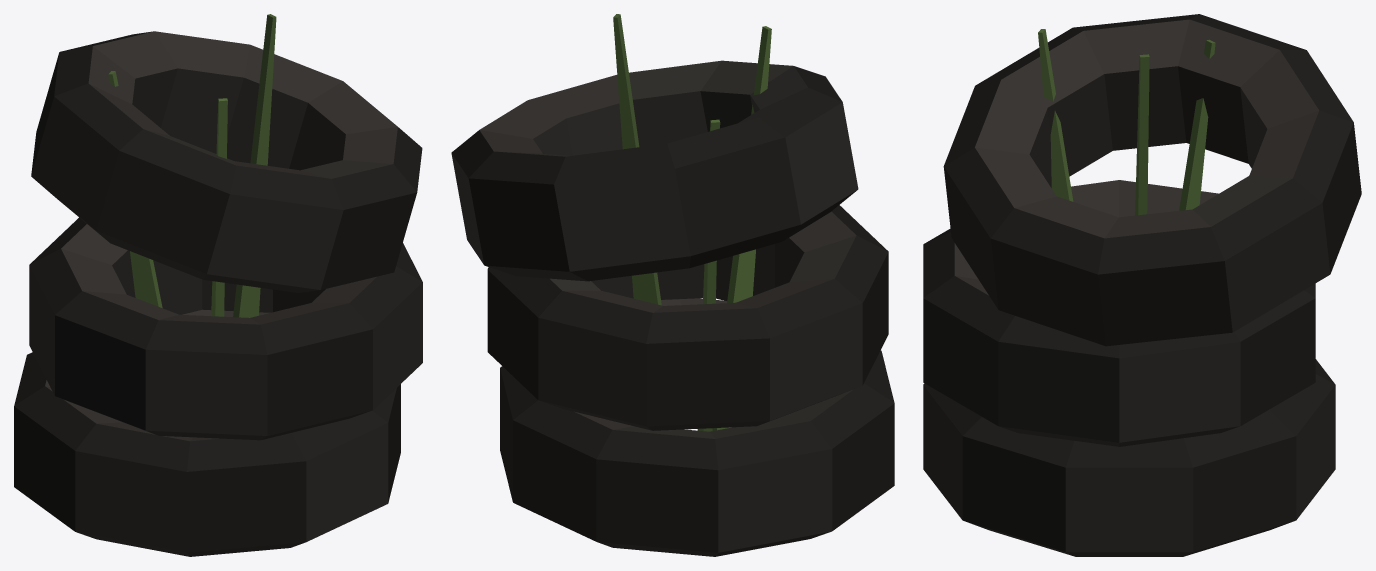
The model's file is pneus.glb.
The picture shows the model from 3 angles, left to right: view 1: azimuth 30°, elevation 25°; view 2: azimuth 150°, elevation 25°; view 3: azimuth 270°, elevation 25°; orthographic projection. The views are drawn at different scales.
Visible parts, largest first — view 1: pneus.001; view 2: pneus.001; view 3: pneus.001.
Boxes of the visible parts, x1,y1,x2,y2 form: pneus.001: (14, 14, 422, 556); pneus.001: (451, 14, 894, 556); pneus.001: (923, 14, 1361, 556).
Bounding box in the file's own units: 0.6565 × 0.7808 × 0.6592.
